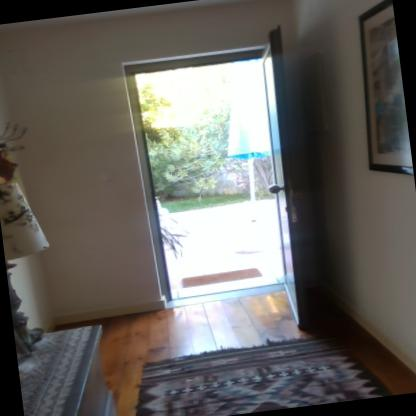open: (103, 24, 334, 346)
